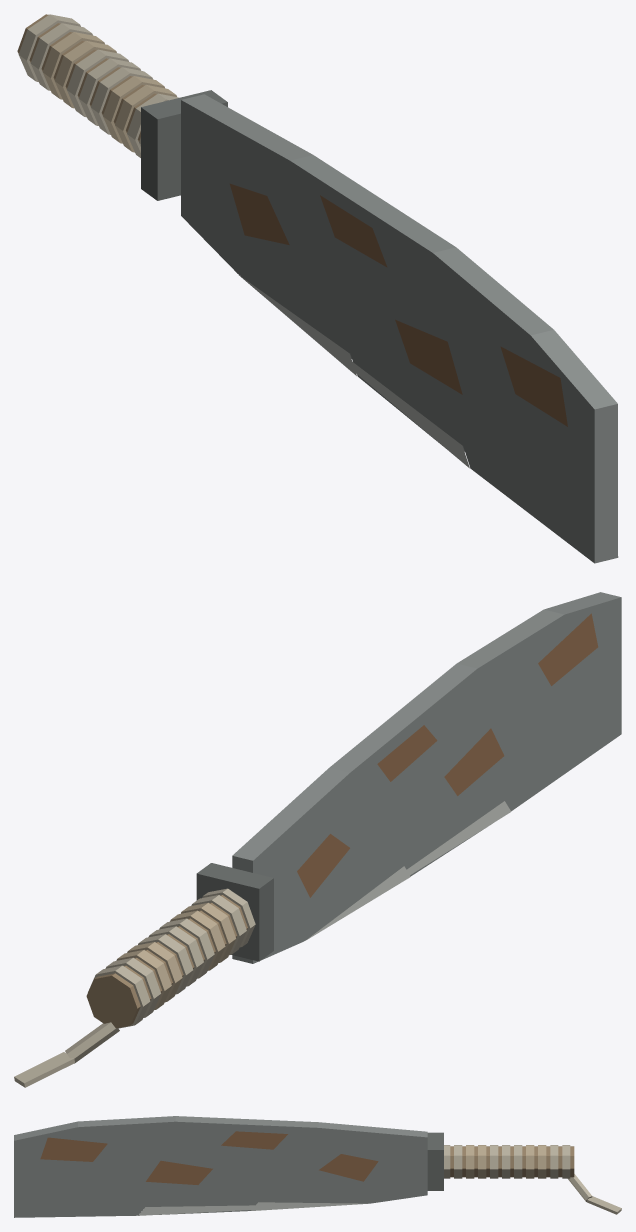
The model's file is cleaver_bandit_r2.glb.
3 views of the same model, one above another, from view 1: azimuth 30°, elevation 25°; view 2: azimuth 150°, elevation 25°; view 3: azimuth 270°, elevation 25° (orthographic). The views are drawn at different scales.
Size of the model in its own units: 0.0784 by 0.141 by 0.8085.
